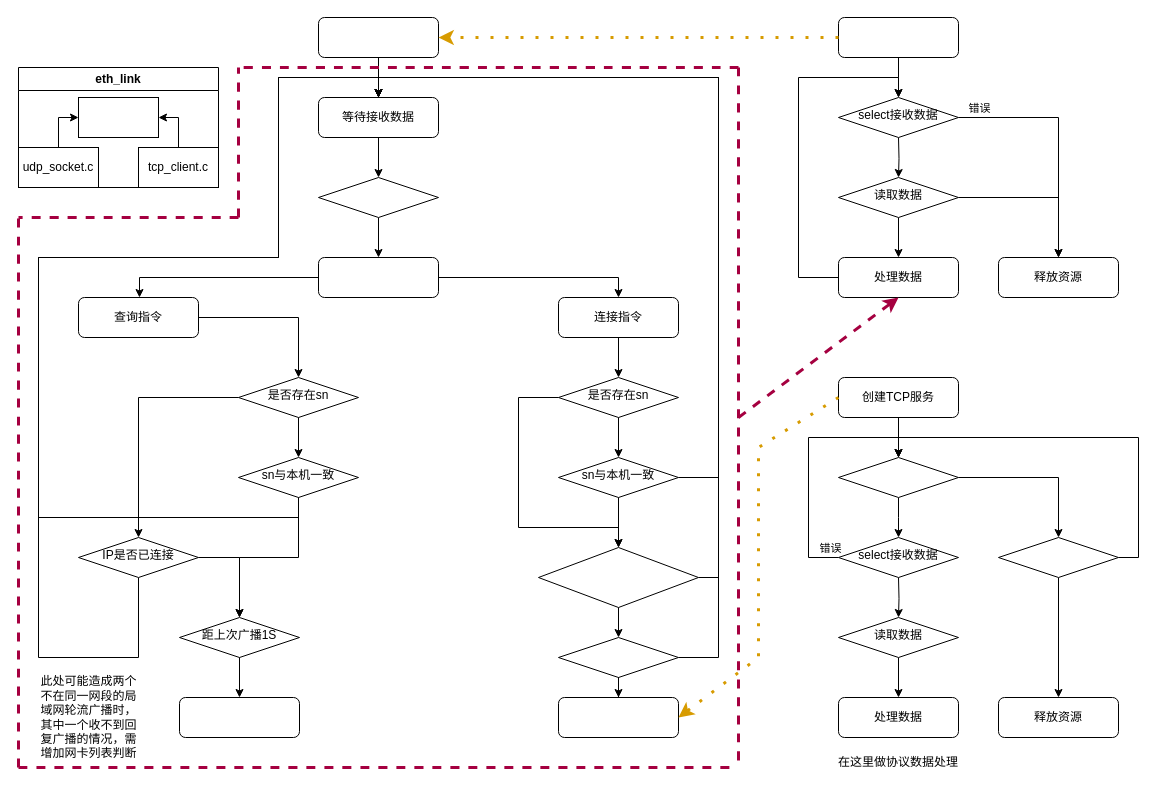
This 1164x795 diagram has some shape labels left out. Here are the shapes that lost their labels. From the top down, the centre of each, then its label:
At point (378, 37): "初始化 创建UDP服务".
At point (898, 37): "创建UDP服务".
At point (118, 117): "eth_link.c".
At point (378, 197): "校验数据".
At point (378, 277): "数据处理".
At point (898, 477): "连接服务端".
At point (618, 577): "IP和PORT 是否为已连接".
At point (1058, 557): "超过连接次数".
At point (618, 657): "小于最大连接数".
At point (239, 717): "回复广播".
At point (618, 717): "创建连接".
